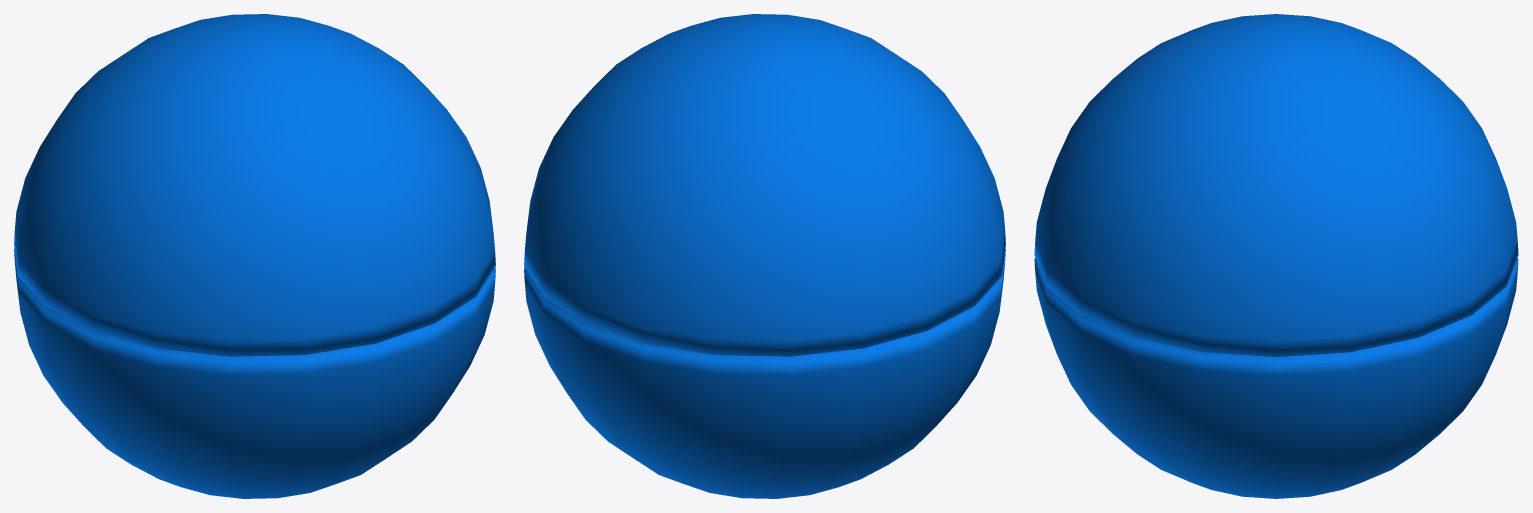
The model's file is octopus_ball.fbx.
3 views of the same model, side by side, from view 1: azimuth 30°, elevation 25°; view 2: azimuth 150°, elevation 25°; view 3: azimuth 270°, elevation 25° (orthographic).
Parts seen in each view (by area): view 1: pSphere2; view 2: pSphere2; view 3: pSphere2.
Part boxes in pixels (x1,y1,x2,y2): pSphere2: (14, 14, 495, 498); pSphere2: (524, 14, 1005, 498); pSphere2: (1034, 14, 1518, 498).
Size of the model in its own units: 2 by 2 by 2.
